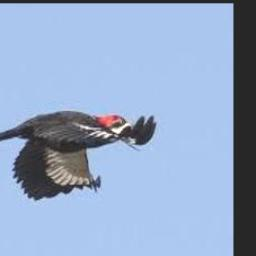Woodpecker: (0, 110, 156, 201)
